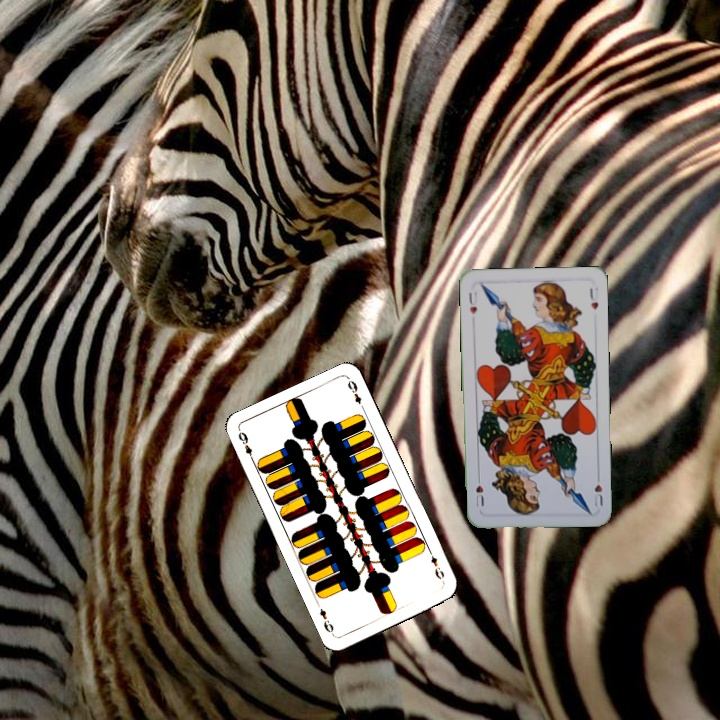E9: (234, 428, 257, 465), (425, 547, 447, 582)
HU: (589, 470, 606, 509), (465, 288, 480, 317)
